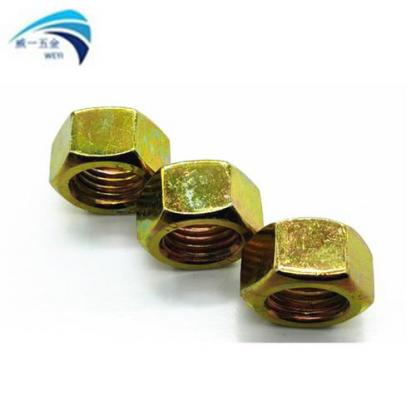FOD: (234, 216, 378, 334), (132, 157, 267, 272), (46, 105, 174, 219)
